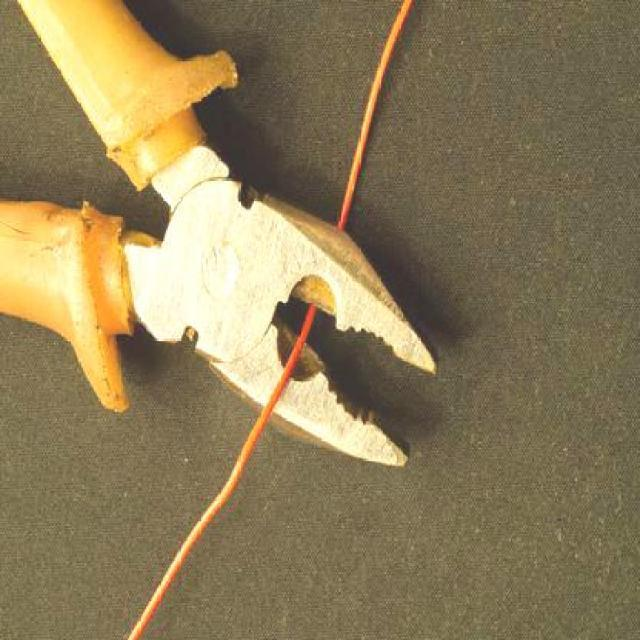pliers: (0, 0, 440, 477)
